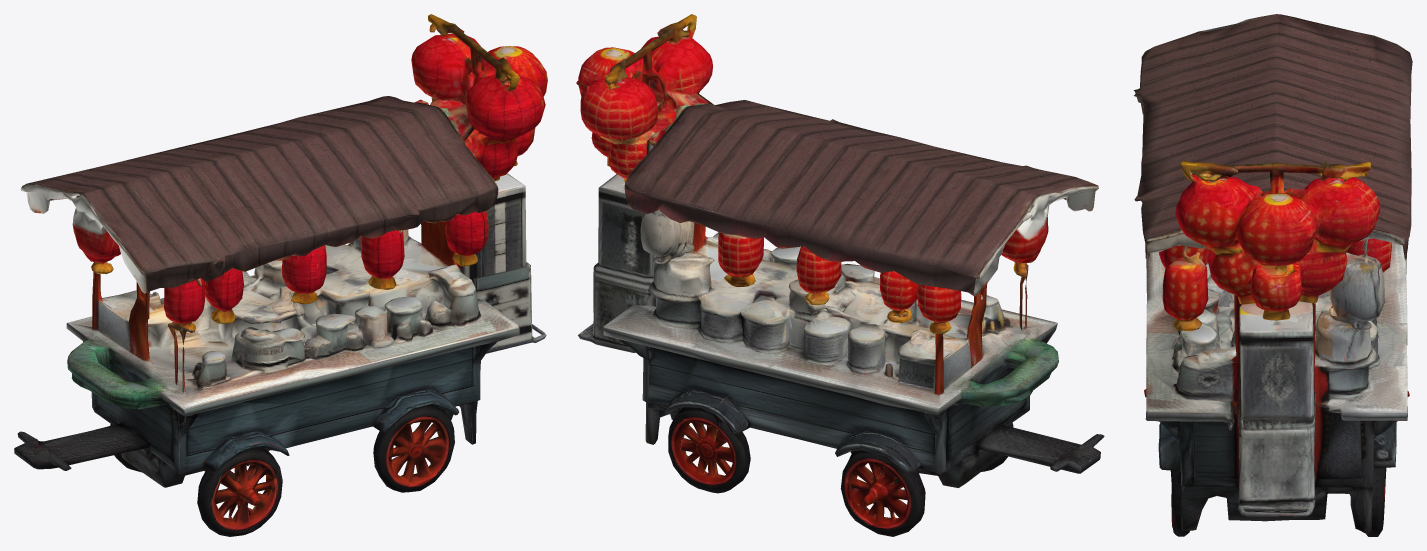
The model's file is ximen_food_stall_01.glb.
3 views of the same model, side by side, from view 1: azimuth 30°, elevation 25°; view 2: azimuth 150°, elevation 25°; view 3: azimuth 270°, elevation 25° (orthographic). The views are drawn at different scales.
Bounding box in the file's own units: 2 × 1.47 × 0.864.
Materials: 1 (1 with a texture image).
